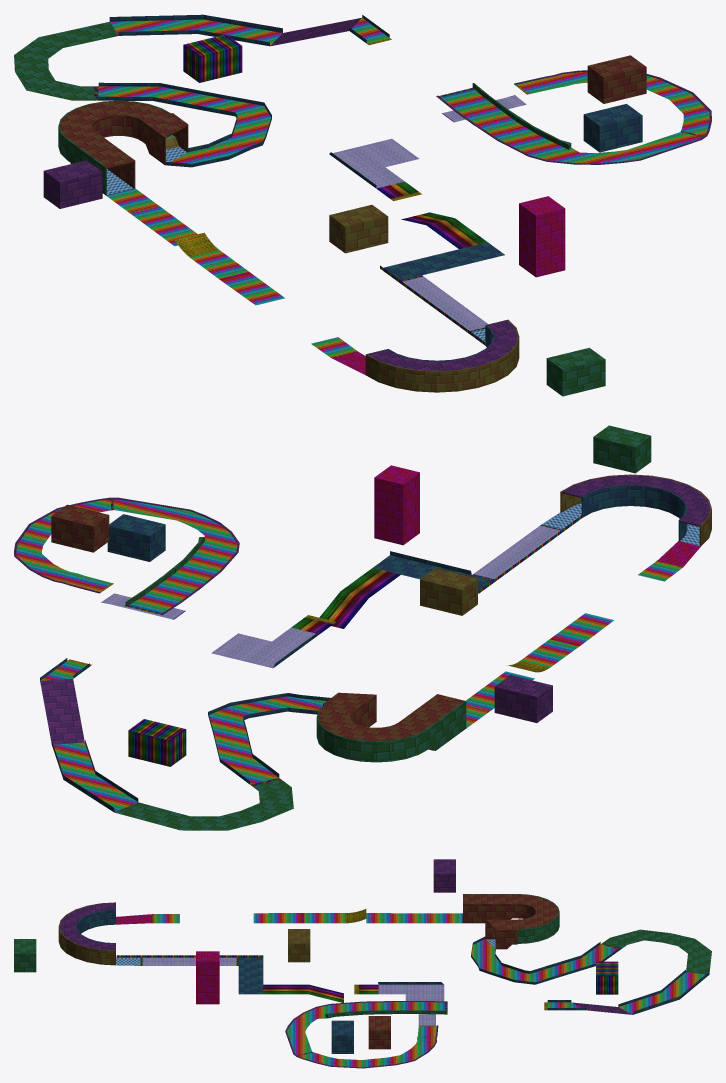
3 renders of one model, top to bottom at view 1: azimuth 30°, elevation 25°; view 2: azimuth 150°, elevation 25°; view 3: azimuth 270°, elevation 25°, orthographic. The views are drawn at different scales.
Parts seen in each view (by area): view 1: Color_Dimension_SKP__Material7, Color_Dimension_SKP__Material3, Color_Dimension_SKP__Material2, Color_Dimension_SKP__Material4, Color_Dimension_SKP__Material6, Color_Dimension_SKP__Material5, Color_Dimension_SKP__Material10, Color_Dimension_SKP__Material9, Color_Dimension_SKP__mat11, Color_Dimension_SKP__mat4, Color_Dimension_SKP__Material11, Color_Dimension_SKP__Material8; view 2: Color_Dimension_SKP__Material7, Color_Dimension_SKP__Material4, Color_Dimension_SKP__Material3, Color_Dimension_SKP__Material6, Color_Dimension_SKP__Material2, Color_Dimension_SKP__Material9, Color_Dimension_SKP__Material10, Color_Dimension_SKP__Material5, Color_Dimension_SKP__mat11, Color_Dimension_SKP__mat4, Color_Dimension_SKP__Material8; view 3: Color_Dimension_SKP__Material7, Color_Dimension_SKP__Material2, Color_Dimension_SKP__Material3, Color_Dimension_SKP__Material4, Color_Dimension_SKP__Material6, Color_Dimension_SKP__Material10, Color_Dimension_SKP__Material5, Color_Dimension_SKP__Material9, Color_Dimension_SKP__mat4, Color_Dimension_SKP__mat11, Color_Dimension_SKP__Material11.
Part boxes in pixels (x1,y1,x2,y2): Color_Dimension_SKP__Material7: [98, 18, 709, 356]; Color_Dimension_SKP__Material3: [98, 14, 642, 361]; Color_Dimension_SKP__Material2: [60, 55, 646, 188]; Color_Dimension_SKP__Material4: [14, 22, 605, 396]; Color_Dimension_SKP__Material6: [43, 18, 711, 370]; Color_Dimension_SKP__Material5: [166, 137, 519, 392]; Color_Dimension_SKP__Material10: [333, 95, 526, 330]; Color_Dimension_SKP__Material9: [219, 196, 565, 374]; Color_Dimension_SKP__mat11: [183, 34, 484, 344]; Color_Dimension_SKP__mat4: [94, 86, 703, 331]; Color_Dimension_SKP__Material11: [130, 38, 528, 357]; Color_Dimension_SKP__Material8: [107, 146, 485, 345]; Color_Dimension_SKP__Material7: [16, 499, 681, 812]; Color_Dimension_SKP__Material4: [114, 425, 651, 830]; Color_Dimension_SKP__Material3: [40, 485, 687, 812]; Color_Dimension_SKP__Material6: [14, 475, 710, 744]; Color_Dimension_SKP__Material2: [51, 504, 464, 750]; Color_Dimension_SKP__Material9: [374, 465, 700, 646]; Color_Dimension_SKP__Material10: [101, 525, 560, 668]; Color_Dimension_SKP__Material5: [420, 474, 711, 615]; Color_Dimension_SKP__mat11: [128, 515, 582, 766]; Color_Dimension_SKP__mat4: [111, 499, 561, 786]; Color_Dimension_SKP__Material8: [542, 503, 699, 545]; Color_Dimension_SKP__Material7: [154, 913, 705, 1067]; Color_Dimension_SKP__Material2: [368, 894, 558, 1049]; Color_Dimension_SKP__Material3: [76, 909, 709, 1053]; Color_Dimension_SKP__Material4: [14, 894, 711, 1018]; Color_Dimension_SKP__Material6: [59, 859, 632, 1068]; Color_Dimension_SKP__Material10: [142, 957, 444, 1025]; Color_Dimension_SKP__Material5: [58, 902, 310, 965]; Color_Dimension_SKP__Material9: [116, 913, 304, 1004]; Color_Dimension_SKP__mat4: [140, 913, 621, 1055]; Color_Dimension_SKP__mat11: [116, 955, 618, 994]; Color_Dimension_SKP__Material11: [152, 909, 547, 1026].
Size of what is drawn, in the model's own units: 87855 by 10825 by 130839.
Materials: 15 (15 with a texture image).
